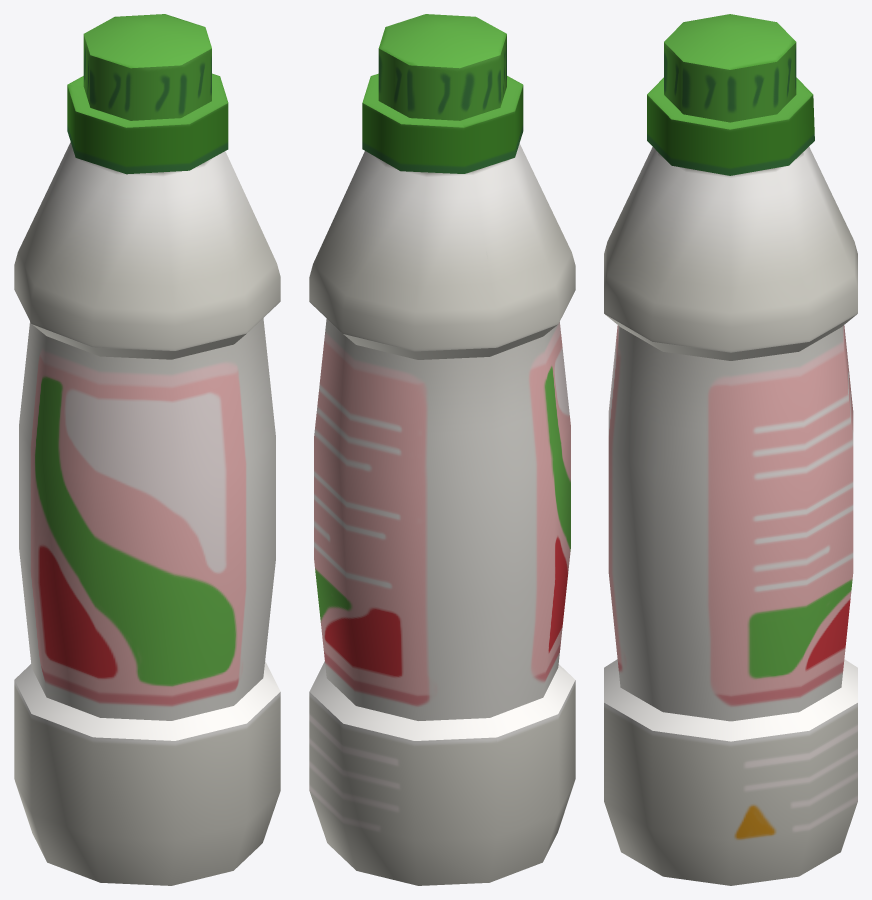
File: cleaners_cleaning_product_detergent_1.fbx
The picture shows the model from 3 angles, left to right: view 1: azimuth 30°, elevation 25°; view 2: azimuth 150°, elevation 25°; view 3: azimuth 270°, elevation 25°; orthographic projection.
Parts seen in each view (by area): view 1: cleaners_cleaning_product_detergent_1; view 2: cleaners_cleaning_product_detergent_1; view 3: cleaners_cleaning_product_detergent_1.
Part boxes in pixels (left/top/right/bottom): cleaners_cleaning_product_detergent_1: left=14, top=14, right=280, bottom=885; cleaners_cleaning_product_detergent_1: left=309, top=14, right=575, bottom=885; cleaners_cleaning_product_detergent_1: left=604, top=14, right=857, bottom=885.
Bounding box in the file's own units: 6.13 × 20.52 × 5.83.
